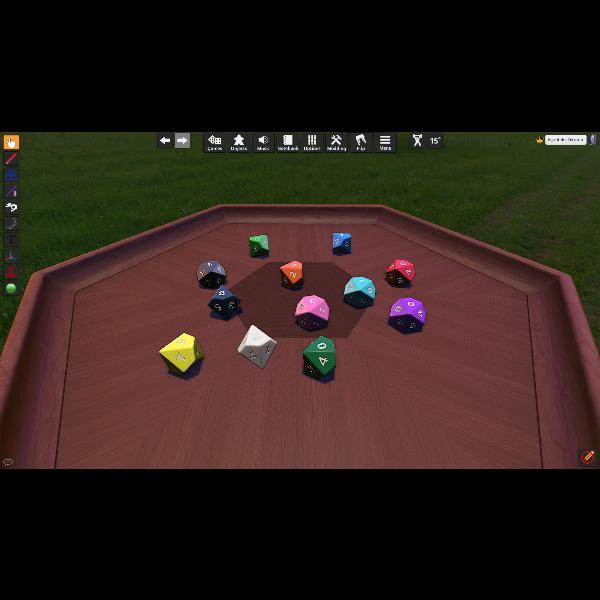d10: (160, 332, 204, 375), (237, 325, 277, 370), (302, 335, 334, 378), (390, 296, 426, 332), (208, 284, 242, 322), (295, 294, 327, 330), (342, 276, 374, 308), (196, 260, 226, 288), (387, 258, 415, 286), (280, 260, 302, 286), (249, 234, 269, 256), (332, 232, 350, 254)
